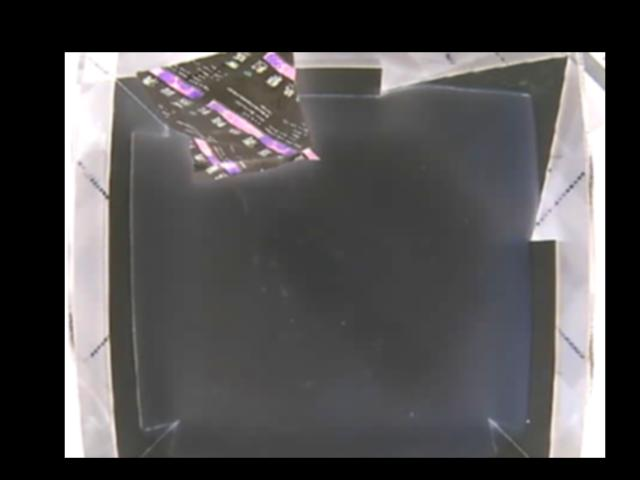Medicine: (133, 53, 319, 187)
